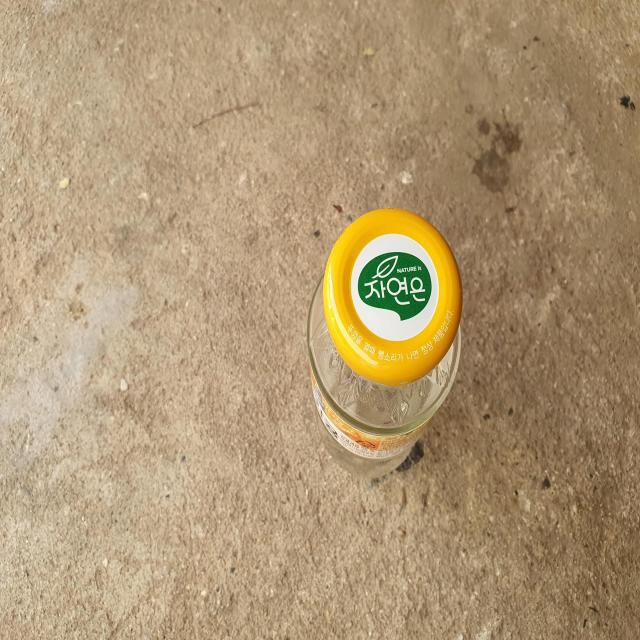glass: (308, 208, 463, 478)
